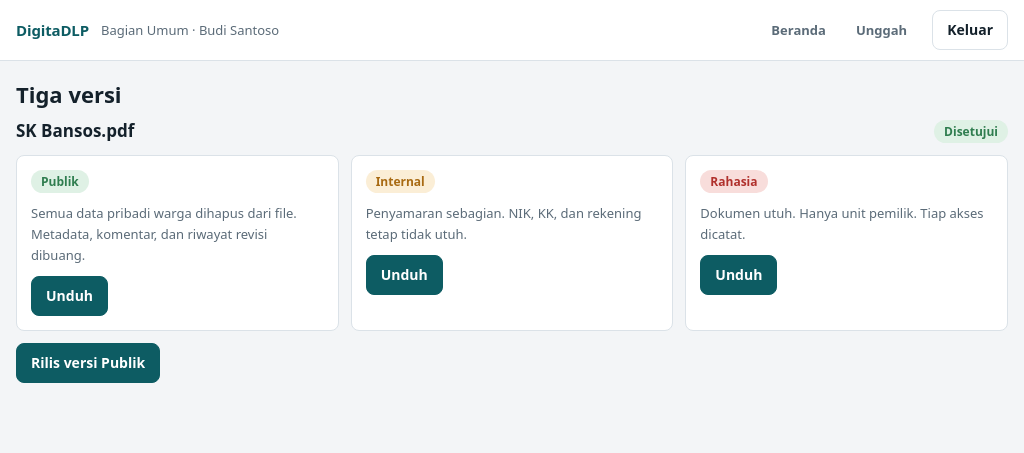
Test: 404 disables that card with server message
Expected: the heading "SK Bansos.pdf" is shown, [16,121,134,142]
Step 1. Click the 3rd button "Unduh" → (70, 296), box [31,276,108,316]
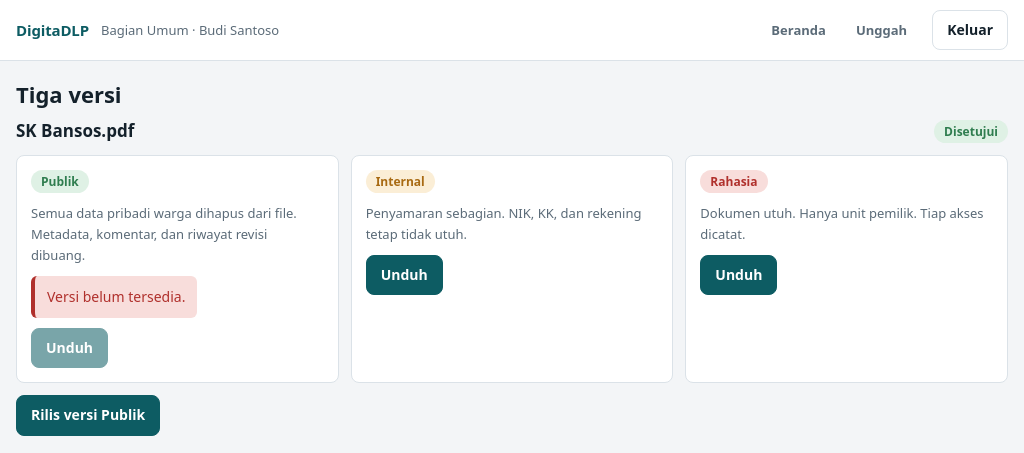
Result: the text "Versi belum tersedia." is shown at [31,276,197,318]
Result: the button "Unduh" below "Versi belum tersedia." is disabled at [31,328,108,368]
